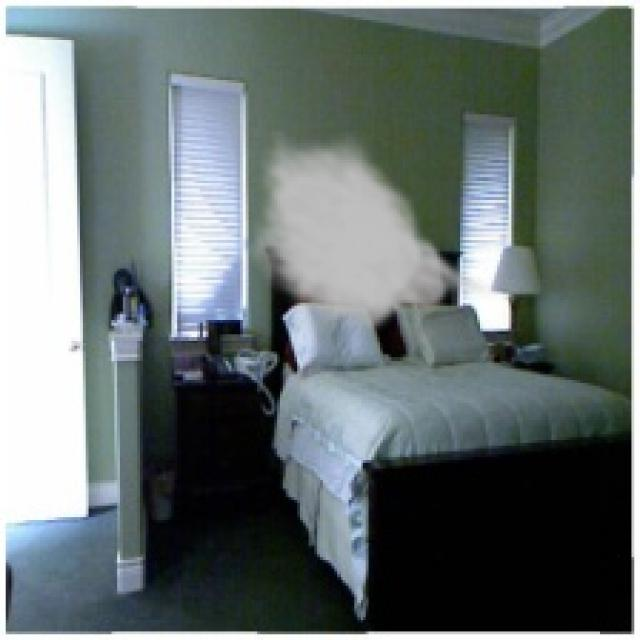smoke: (249, 129, 497, 337)
